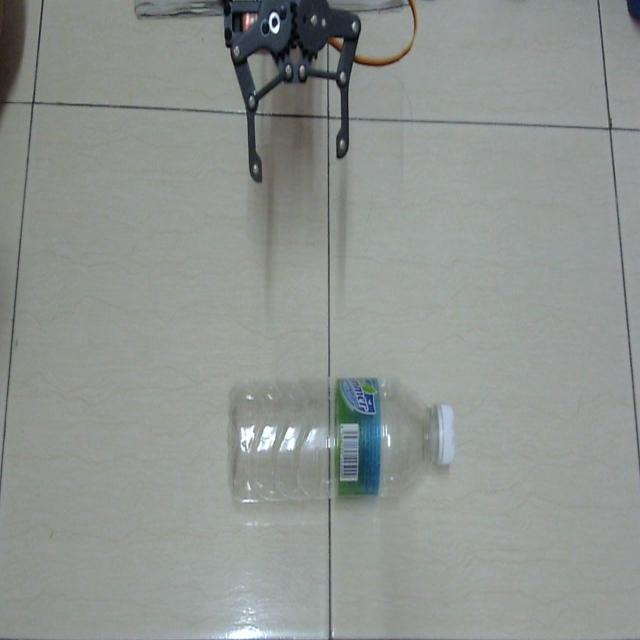plastic_laydown_0rotation: (225, 362, 459, 520)
